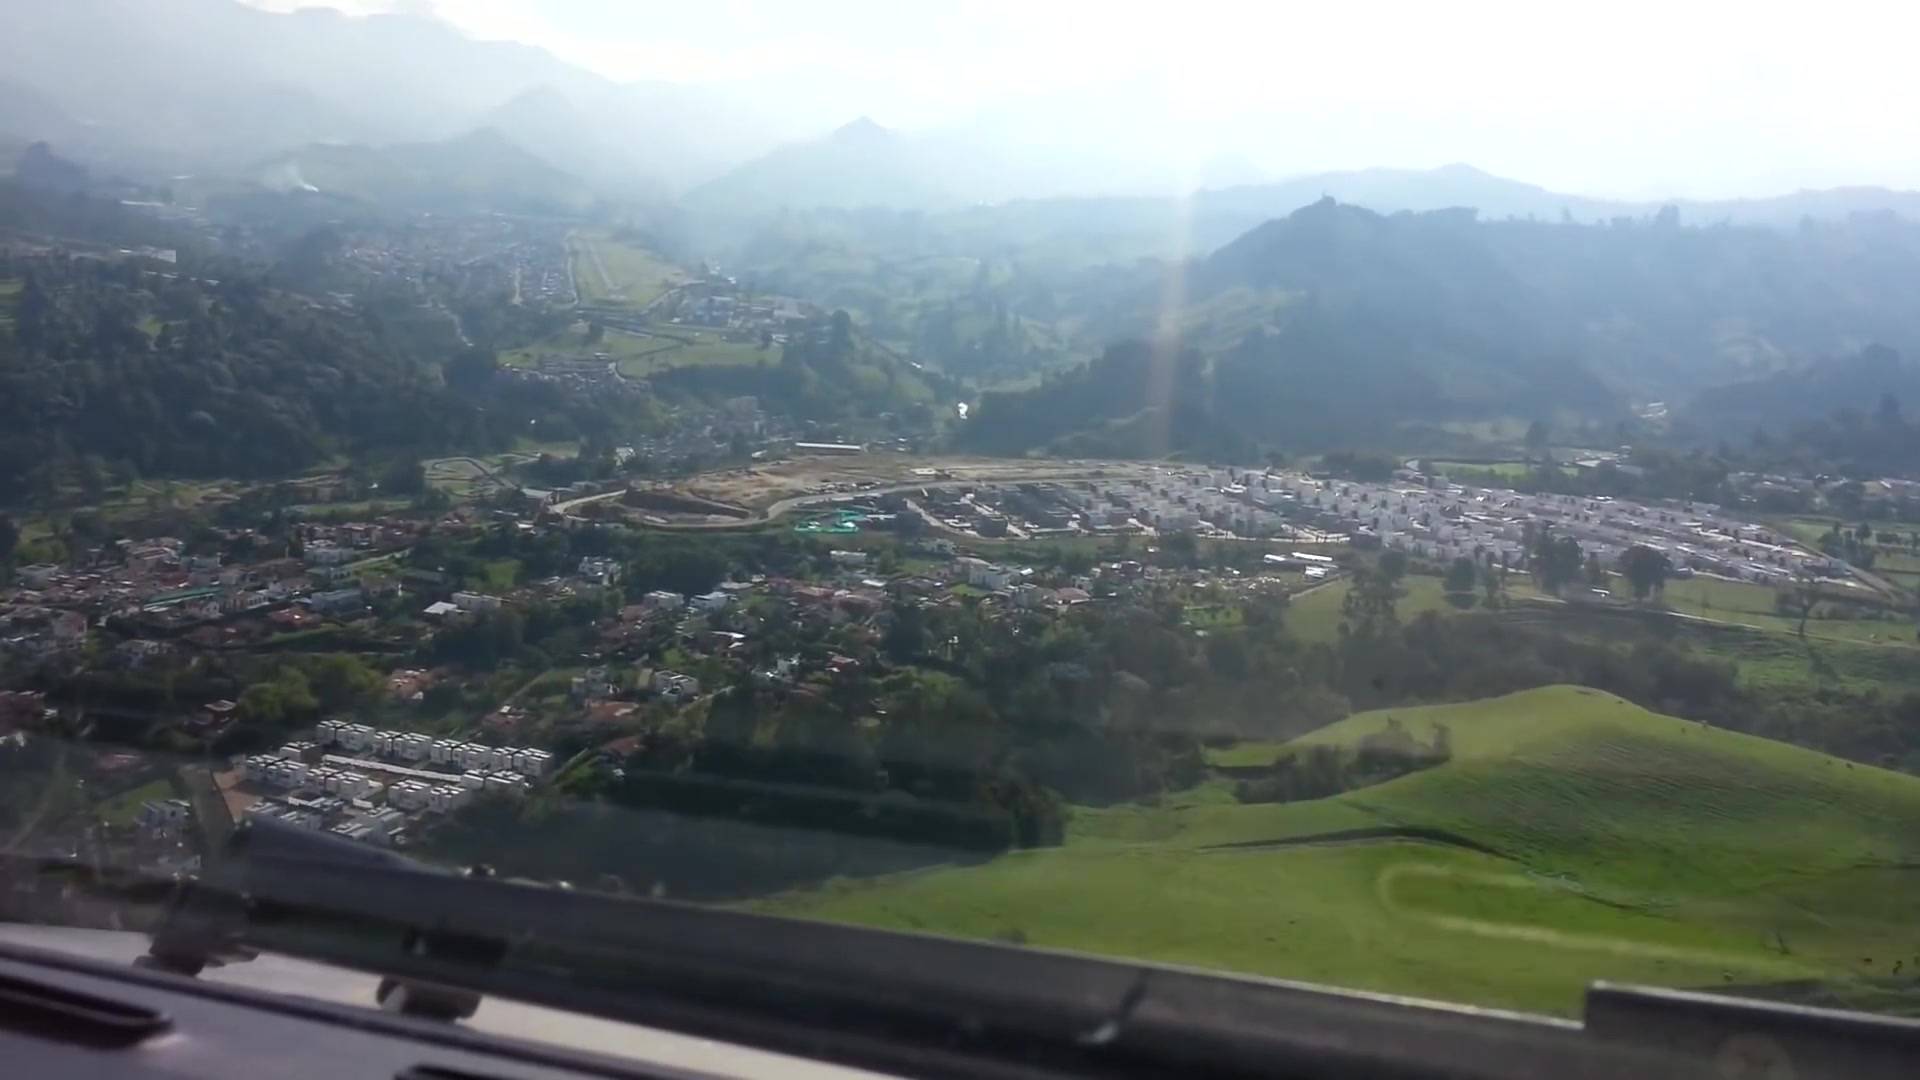runway: (582, 235, 629, 301)
